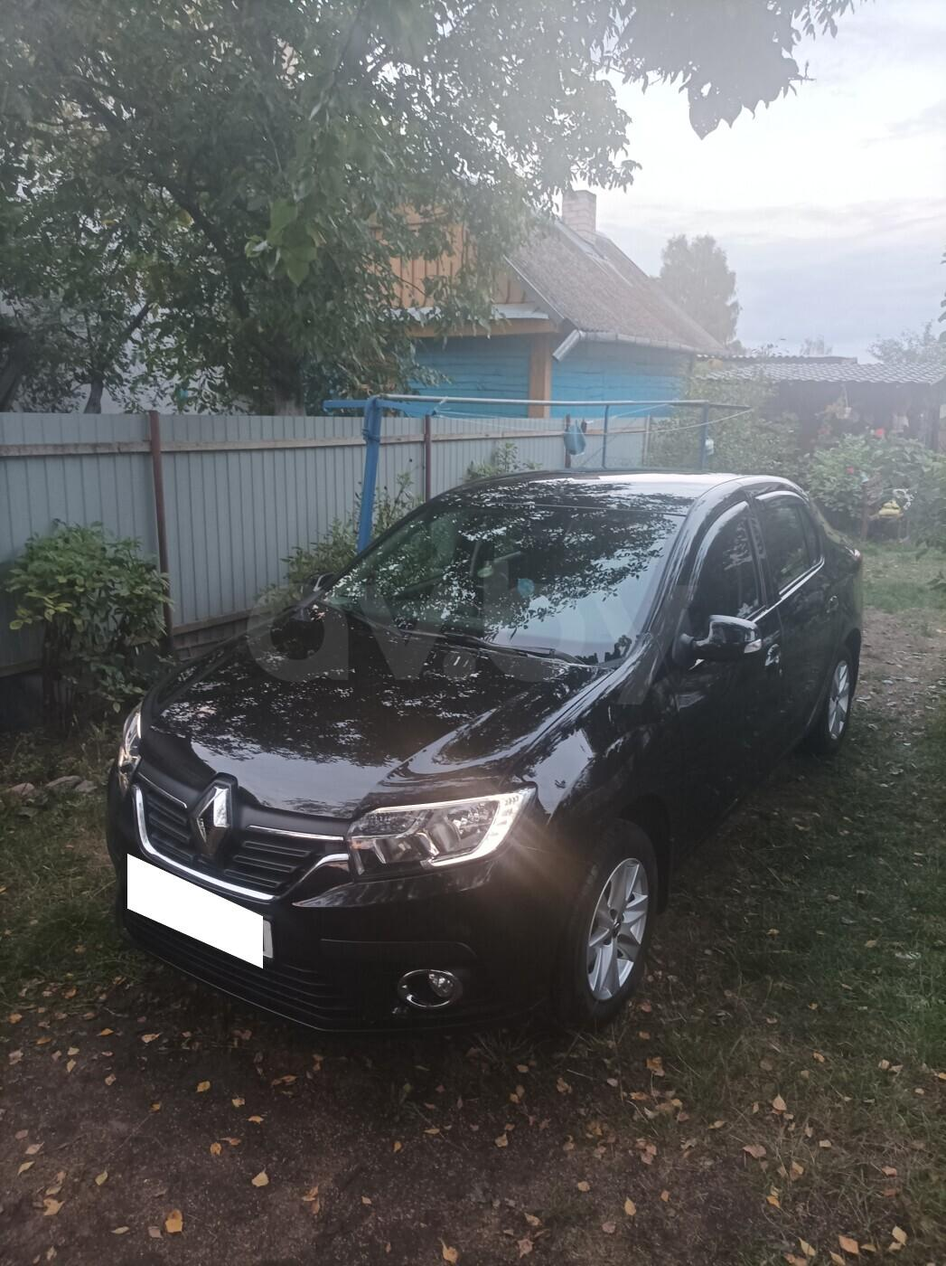Logan_2018: (78, 472, 876, 1049)
